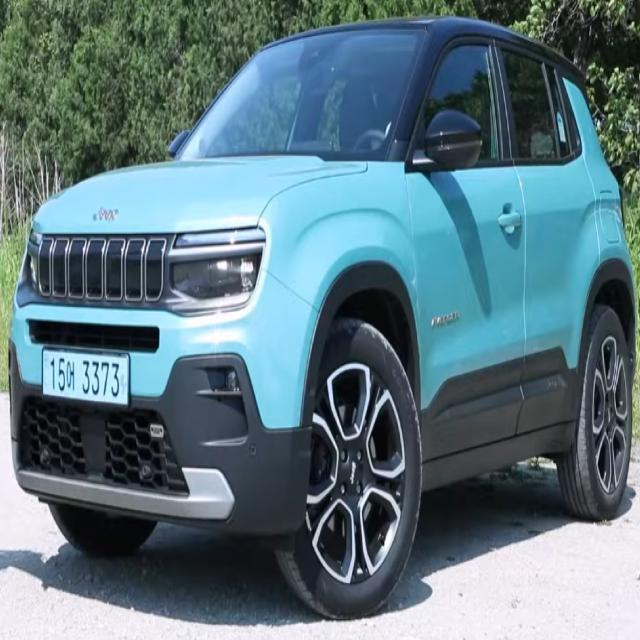car: (35, 341, 142, 422)
carev: (119, 352, 133, 409), (40, 347, 52, 399)
